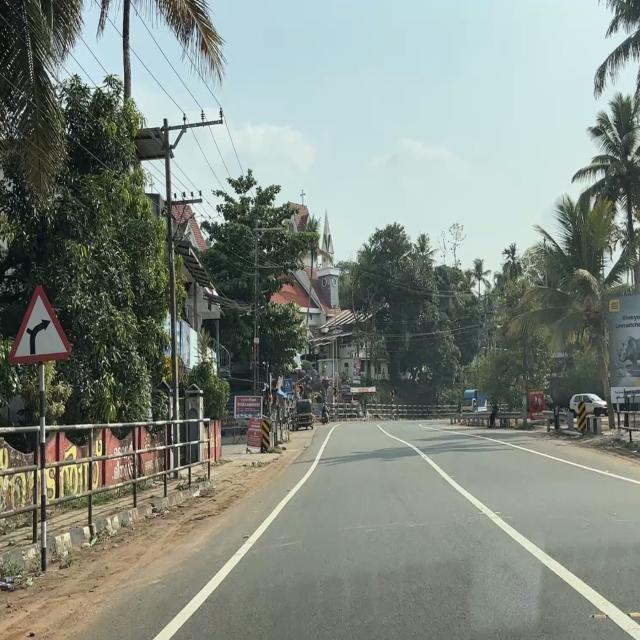RIGHT_TURN_AHEAD: (7, 281, 74, 367)
